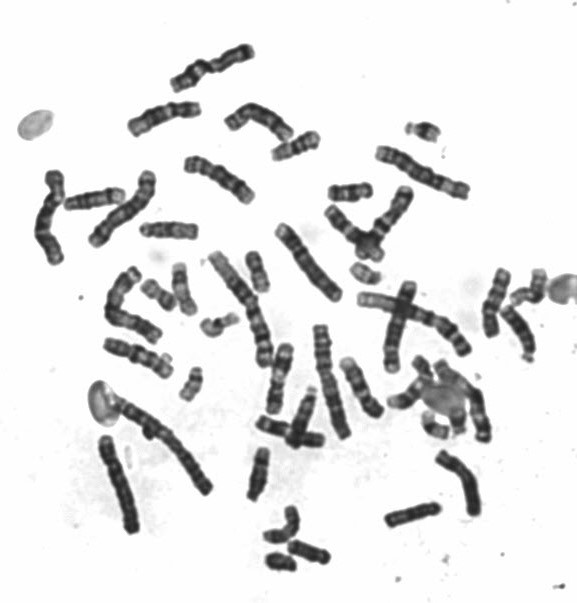chromosomes: (98, 388, 219, 499), (353, 288, 480, 363), (206, 249, 278, 377), (81, 164, 164, 253), (273, 216, 345, 313), (86, 429, 149, 539), (369, 142, 478, 205), (348, 182, 421, 265), (431, 352, 493, 446), (98, 264, 166, 348), (165, 38, 261, 97), (319, 199, 392, 272), (426, 444, 493, 522), (26, 165, 73, 274), (307, 319, 346, 448), (377, 273, 421, 382), (176, 151, 260, 207), (220, 97, 304, 153), (122, 95, 207, 145), (96, 334, 175, 387), (337, 349, 388, 429), (259, 336, 302, 423), (495, 297, 540, 377), (251, 410, 332, 450), (383, 352, 434, 415), (263, 123, 327, 168), (480, 259, 512, 346), (237, 442, 276, 513), (252, 497, 306, 546), (384, 494, 449, 534), (499, 262, 552, 311), (284, 381, 320, 451), (60, 179, 129, 215), (169, 255, 206, 319), (130, 216, 207, 245), (238, 245, 277, 299), (397, 110, 450, 149), (195, 304, 246, 343), (282, 536, 343, 568), (135, 274, 180, 314), (343, 255, 394, 290), (324, 176, 380, 206), (256, 546, 301, 583), (178, 361, 210, 406), (418, 409, 452, 441), (447, 400, 471, 439)
